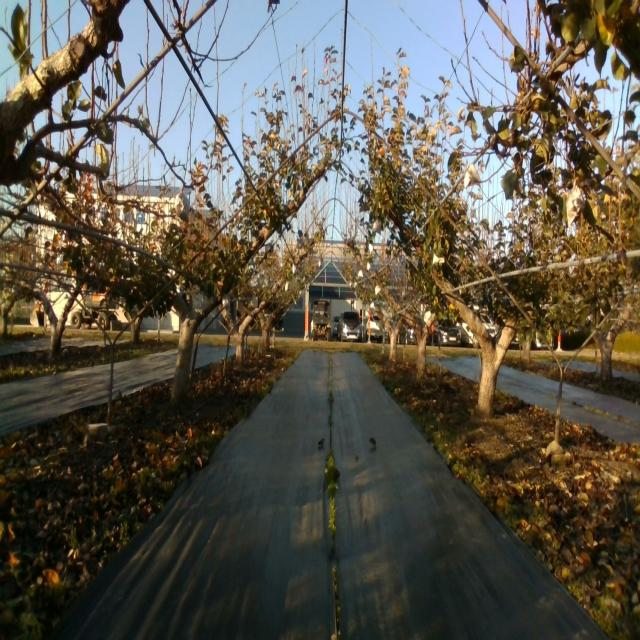pearbags: (566, 180, 586, 226), (175, 186, 188, 223), (464, 164, 482, 189)
